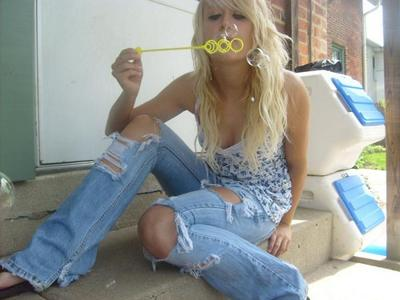person: (4, 2, 315, 300)
